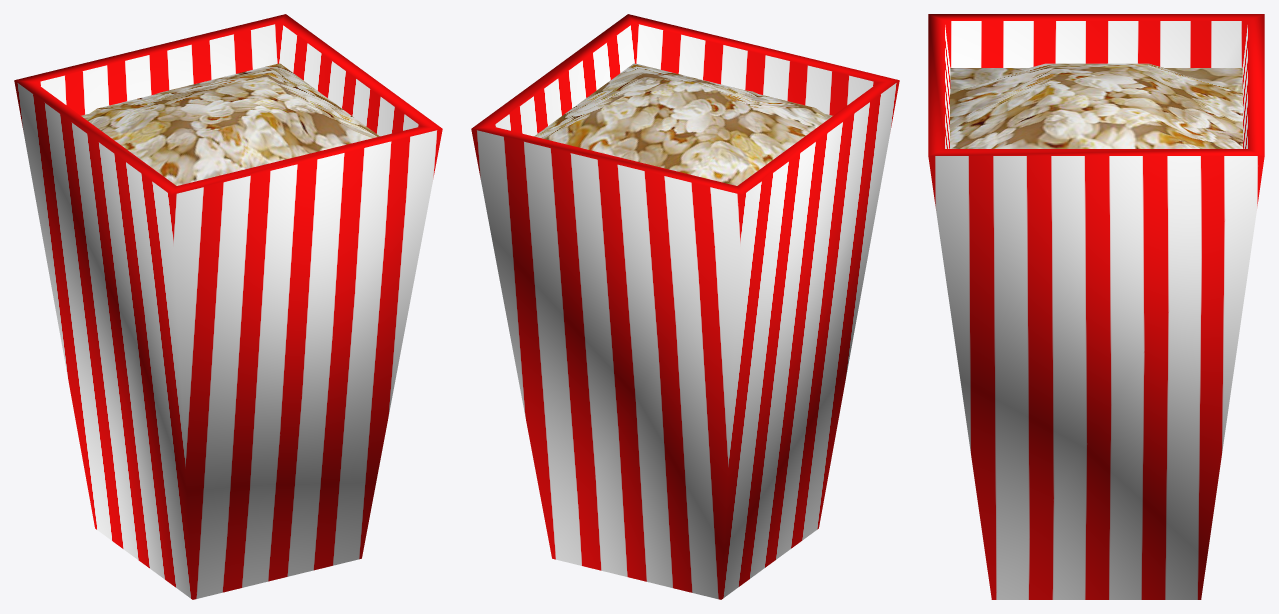
File: Popcorn.fbx
3 renders of one model, left to right at view 1: azimuth 30°, elevation 25°; view 2: azimuth 150°, elevation 25°; view 3: azimuth 270°, elevation 25°, orthographic. The views are drawn at different scales.
Parts seen in each view (by area): view 1: PopCorn; view 2: PopCorn; view 3: PopCorn.
Boxes of the visible parts, x1=… form: PopCorn: x1=14, y1=14, x2=442, y2=599; PopCorn: x1=471, y1=14, x2=899, y2=599; PopCorn: x1=928, y1=14, x2=1264, y2=599.
Size of the model in its own units: 27.05 by 42.12 by 27.05.
